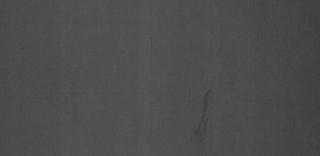water spot: (187, 86, 226, 146)
